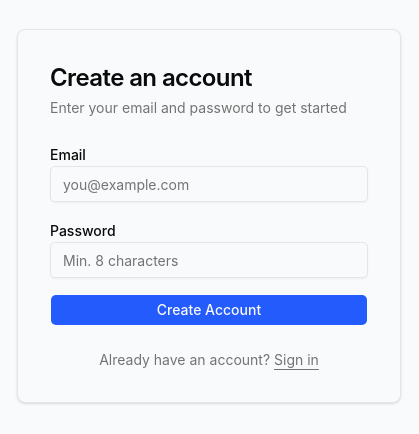
Test case: SignupPage › shows field-level email error on 400 with email validation error
In the field labelled "Email": (209, 184) [50,166,368,202], type "bad"
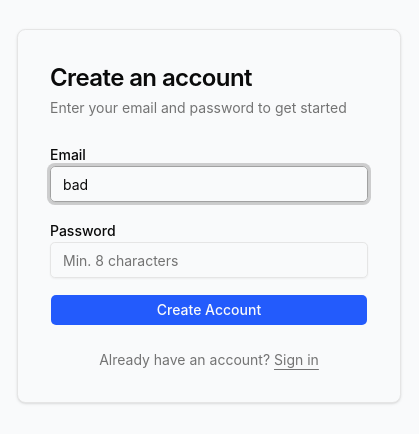
In the password field labelled "Password": (209, 260) [50,242,368,278], type "pass"
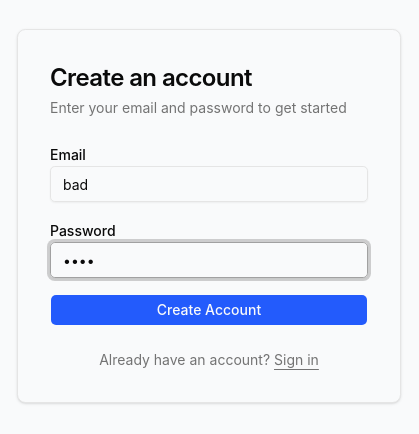
Click the button "Create Account": (209, 310) [50,294,368,326]
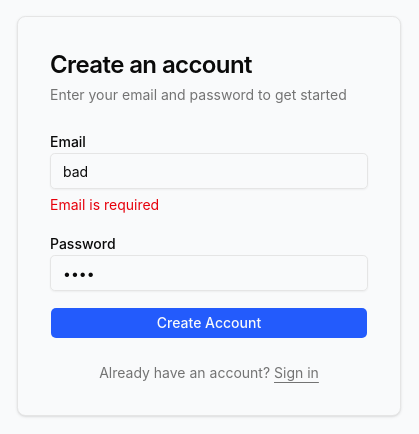
Result: the message reads "Email is required" at [50,196,159,213]
